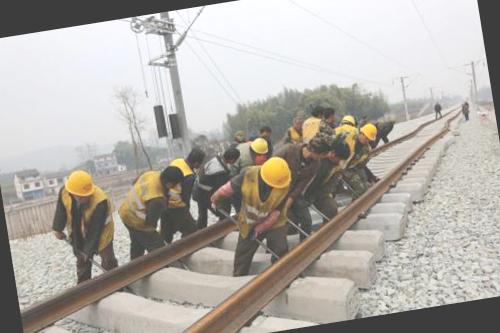no_helmet: (302, 127, 336, 162), (153, 159, 188, 192), (179, 142, 213, 172), (326, 136, 354, 170), (216, 141, 246, 169), (308, 103, 326, 124), (256, 124, 273, 142), (288, 113, 304, 132), (322, 105, 338, 123)
